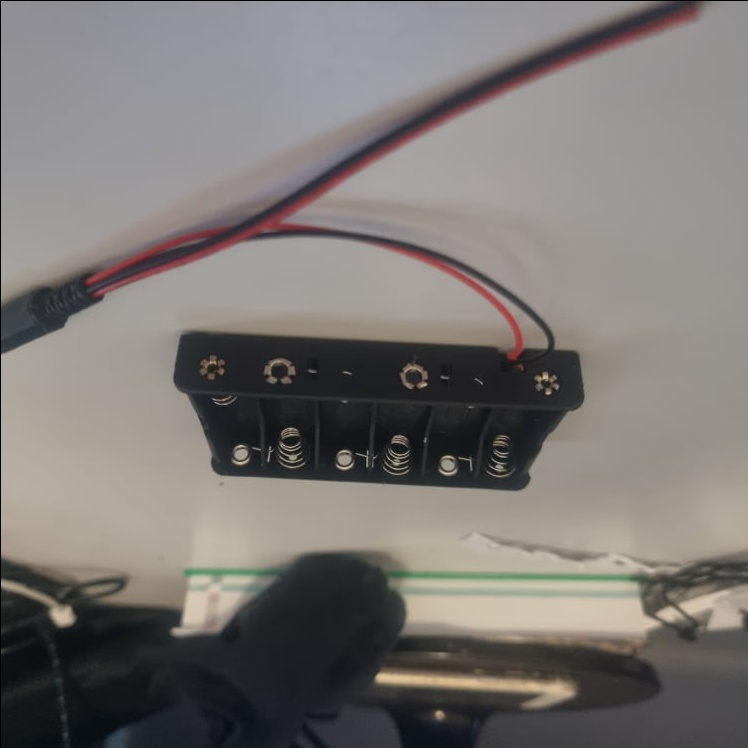BATTERY BOX: (171, 323, 584, 494)
